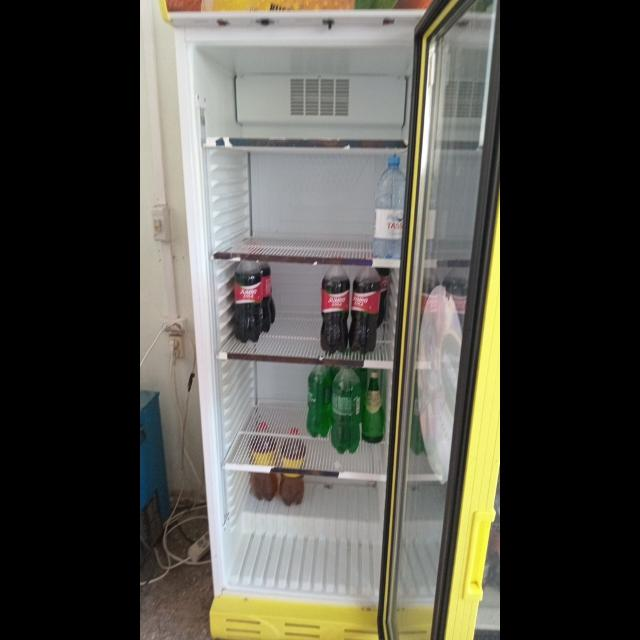Cooling-Display: (158, 1, 446, 640)
